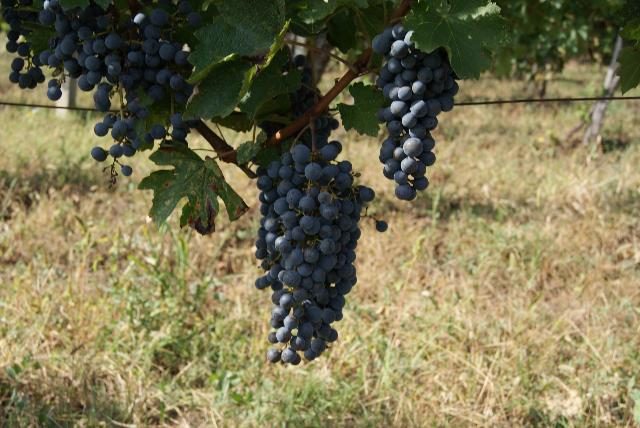grapes: (1, 0, 201, 161), (255, 142, 375, 365), (372, 24, 459, 200)
